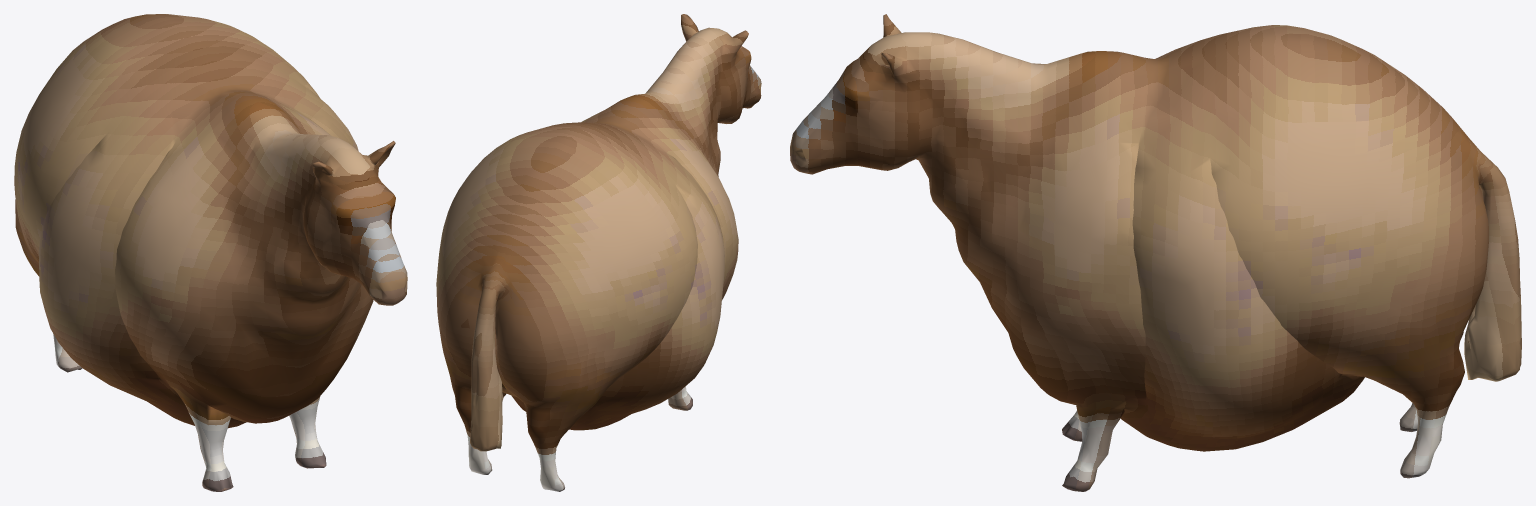
Rendered from horse.glb.
3 renders of one model, left to right at view 1: azimuth 30°, elevation 25°; view 2: azimuth 150°, elevation 25°; view 3: azimuth 270°, elevation 25°, orthographic. The views are drawn at different scales.
Parts seen in each view (by area): view 1: Horse; view 2: Horse; view 3: Horse.
Part boxes in pixels (bbox=[...]): Horse: bbox=[14, 14, 407, 491]; Horse: bbox=[436, 14, 761, 491]; Horse: bbox=[790, 14, 1521, 491].
Size of the model in its own units: 2.57 by 3.2 by 4.94.
Materials: 1 (1 with a texture image).
